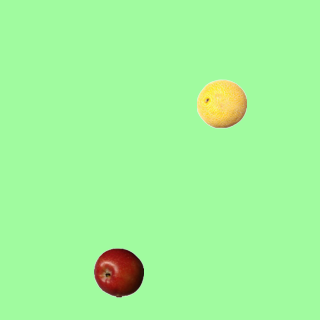Apple Braeburn: (93, 247, 143, 297)
Cantaloupe 1: (196, 78, 246, 128)
